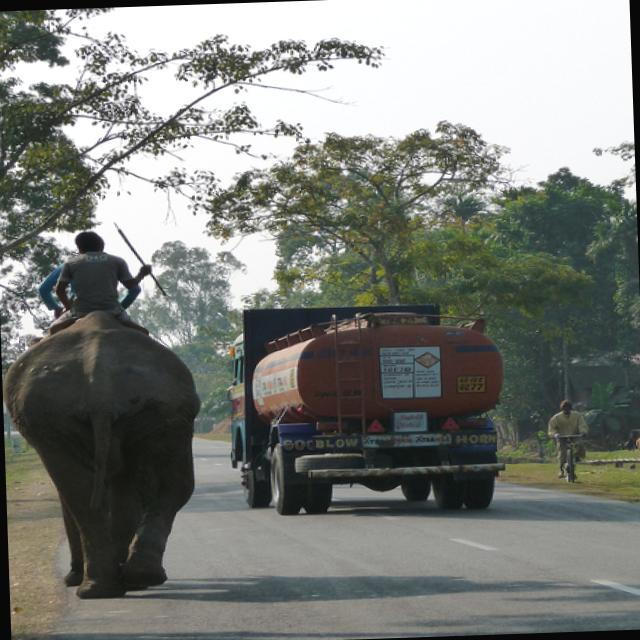Vehicle: (223, 298, 507, 518)
